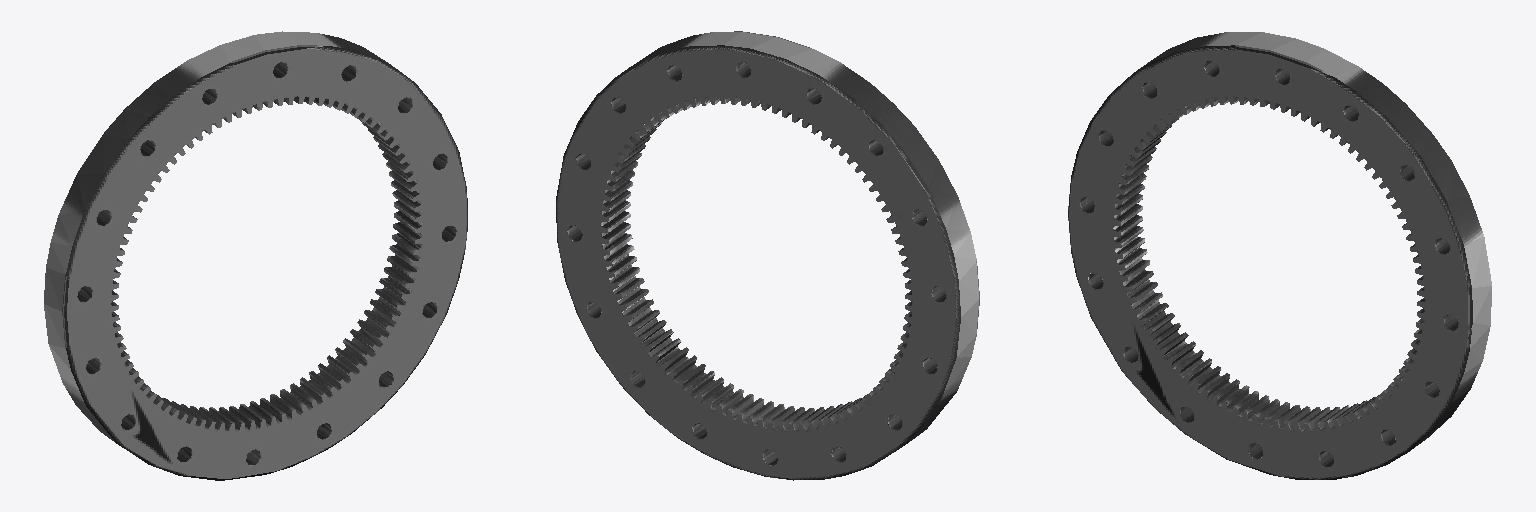
The picture shows the model from 3 angles: view 1: azimuth 30°, elevation 25°; view 2: azimuth 150°, elevation 25°; view 3: azimuth 330°, elevation 25°; orthographic projection.
Visible parts, largest first — view 1: Piñon.032_Mesh.1361; view 2: Piñon.032_Mesh.1361; view 3: Piñon.032_Mesh.1361.
Part boxes in pixels (left/top/right/bottom): Piñon.032_Mesh.1361: left=44, top=31, right=467, bottom=480; Piñon.032_Mesh.1361: left=556, top=31, right=979, bottom=480; Piñon.032_Mesh.1361: left=1068, top=32, right=1491, bottom=479.
Bounding box in the file's own units: 0.209 × 0.2092 × 0.0197.
1 materials, 1 textured.